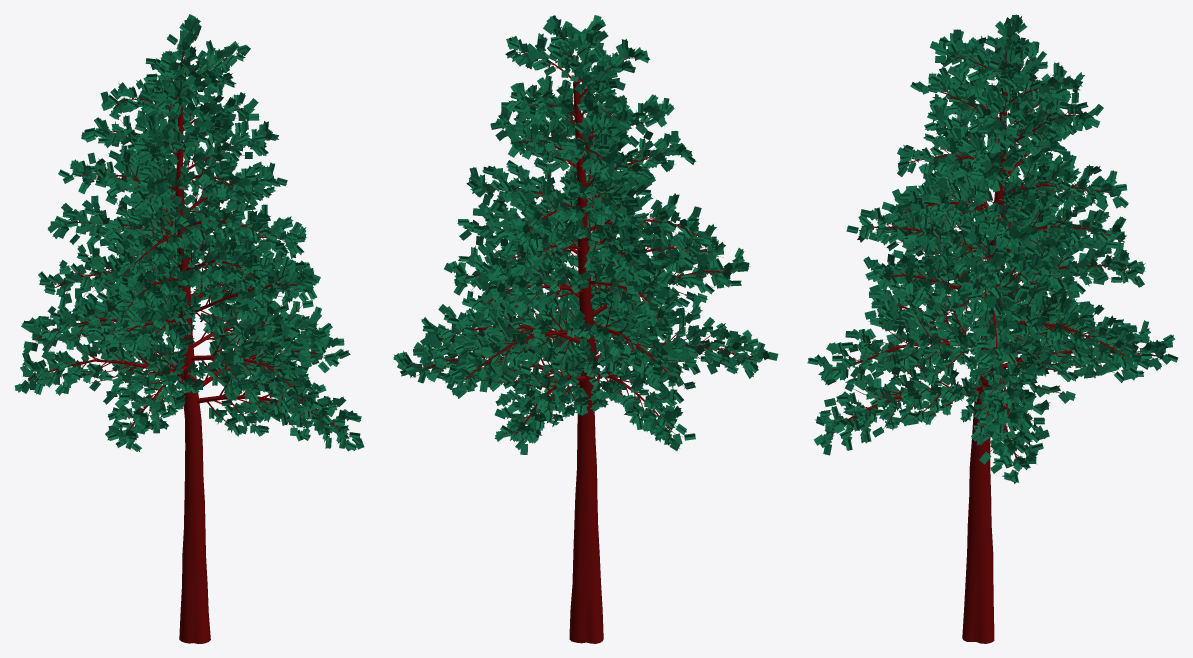
The model's file is Baum7 Neu.FBX.
The picture shows the model from 3 angles, left to right: view 1: azimuth 30°, elevation 25°; view 2: azimuth 150°, elevation 25°; view 3: azimuth 270°, elevation 25°; orthographic projection. The views are drawn at different scales.
Parts seen in each view (by area): view 1: Foliage001; view 2: Foliage001; view 3: Foliage001.
Boxes of the visible parts, box(x1,y1,x2,y2) form: Foliage001: box(14, 14, 364, 643); Foliage001: box(393, 15, 778, 643); Foliage001: box(807, 14, 1178, 643).
Bounding box in the file's own units: 396 × 739 × 395.
